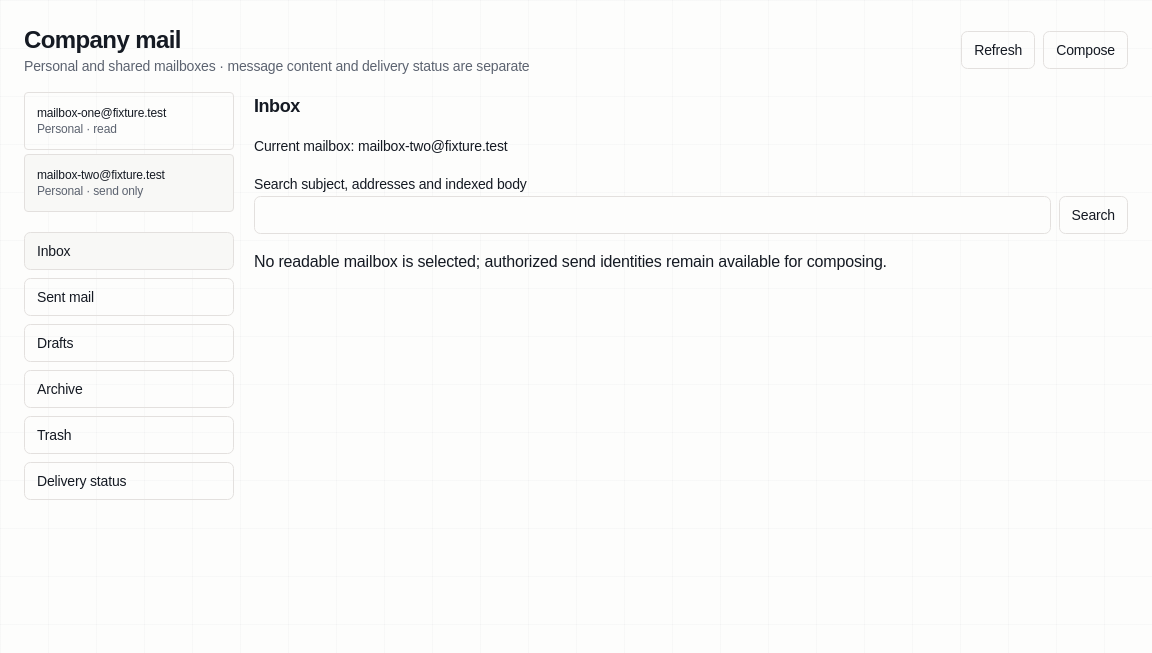
Test: explicit mailbox route recovery › R10 keeps a selected send-only identity usable for Compose
Expected: the button "mailbox-one@fixture.test Personal · read" is shown, [24,92,234,150]
Step 1. Click the button "Compose" → x=1086, y=50, box [1043,31,1128,69]
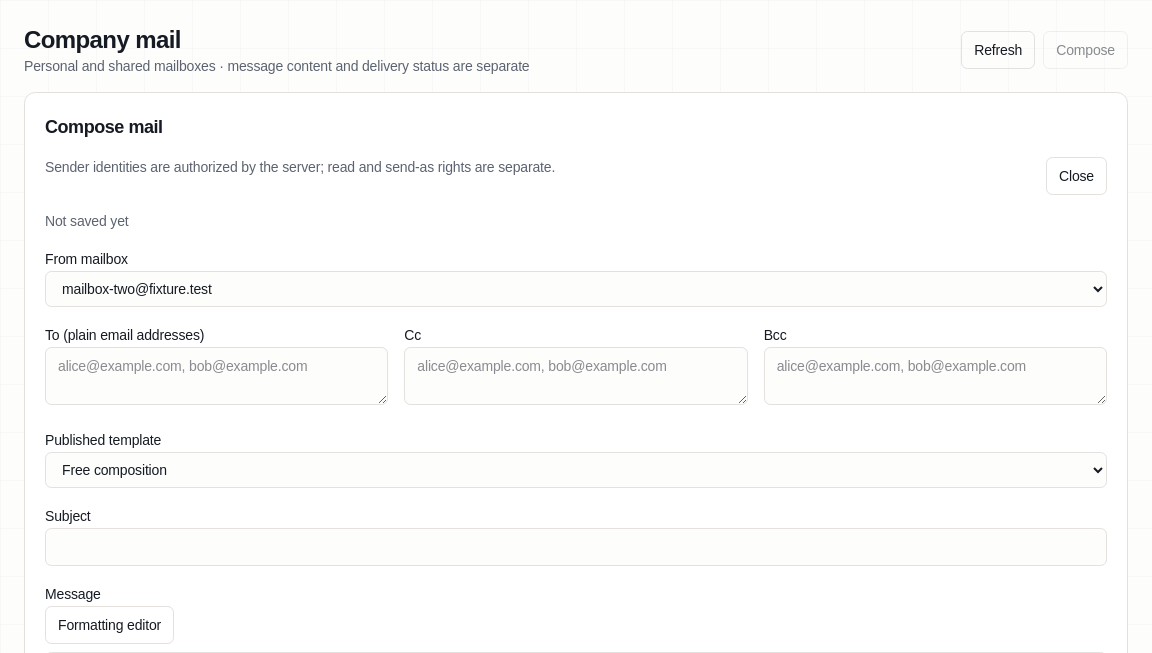
Now the dropdown labelled "From mailbox" shows "mailbox-two@fixture.test", box [45,271,1107,307]
